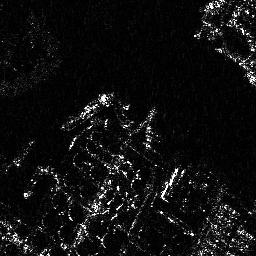ship: (58, 90, 119, 130), (1, 140, 36, 173)
